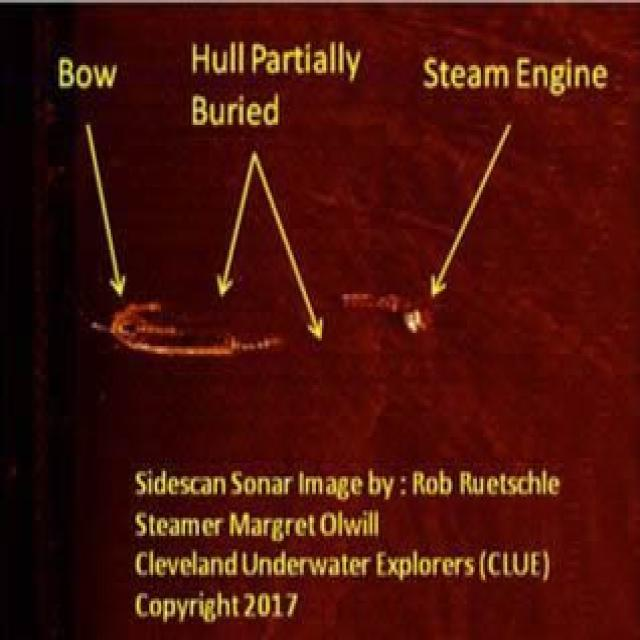ship: (79, 284, 426, 354)
